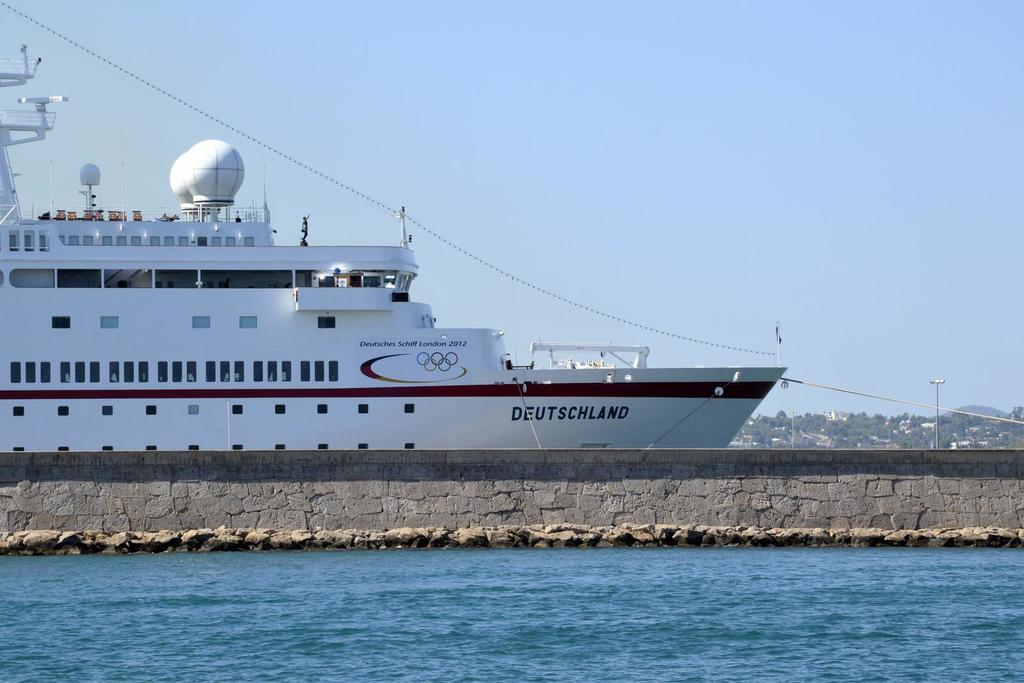boat: (1, 40, 804, 451)
